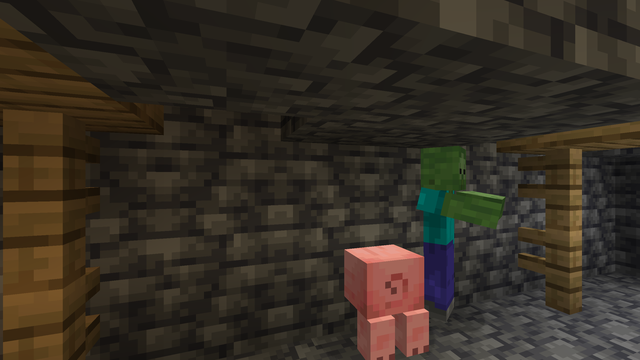cochons: (332, 241, 431, 355)
zombies: (420, 149, 479, 326)
